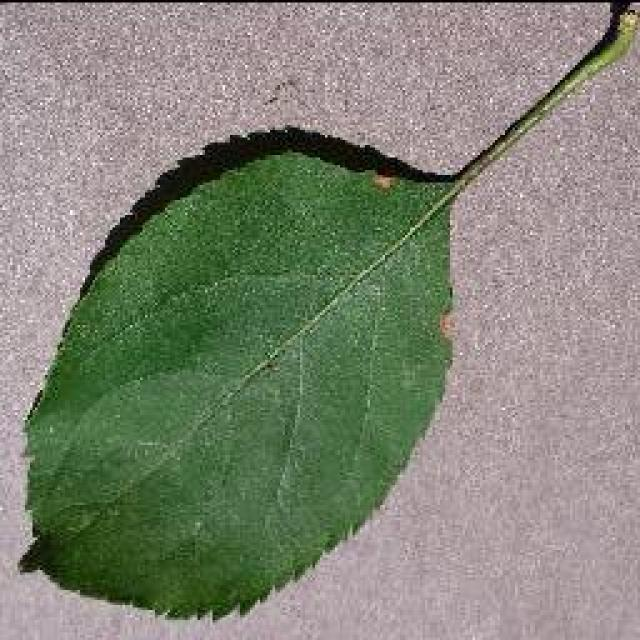apple black rot: (15, 122, 460, 622)
